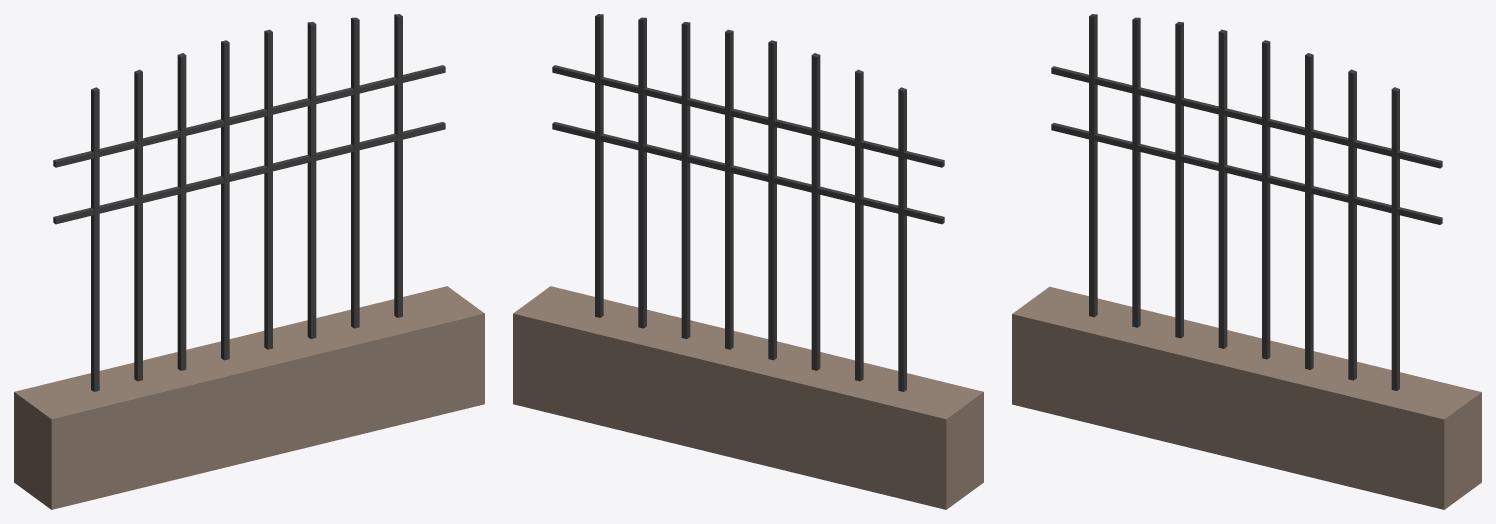
File: SM_FloorProps_Fence_07.fbx
3 views of the same model, side by side, from view 1: azimuth 30°, elevation 25°; view 2: azimuth 150°, elevation 25°; view 3: azimuth 330°, elevation 25° (orthographic).
Parts seen in each view (by area): view 1: SM_FloorProps_Fence_07; view 2: SM_FloorProps_Fence_07; view 3: SM_FloorProps_Fence_07.
Part boxes in pixels (x1=…): SM_FloorProps_Fence_07: x1=14, y1=14, x2=484, y2=509; SM_FloorProps_Fence_07: x1=513, y1=14, x2=983, y2=509; SM_FloorProps_Fence_07: x1=1012, y1=14, x2=1481, y2=509.
Bounding box in the file's own units: 2.5 × 2.25 × 0.375.
